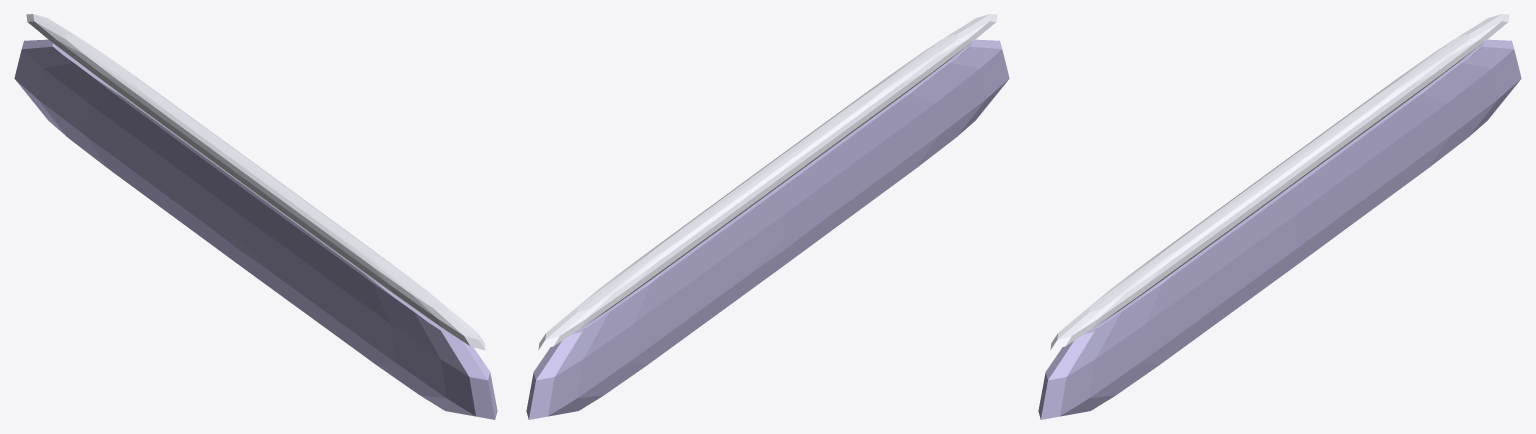
The model's file is h10_snow_walls_e.fbx.
3 renders of one model, left to right at view 1: azimuth 30°, elevation 25°; view 2: azimuth 150°, elevation 25°; view 3: azimuth 330°, elevation 25°, orthographic.
Parts seen in each view (by area): view 1: h10_snow_walls_e__SnowShadow, h10_snow_walls_e__Snow; view 2: h10_snow_walls_e__SnowShadow, h10_snow_walls_e__Snow; view 3: h10_snow_walls_e__SnowShadow, h10_snow_walls_e__Snow.
Boxes of the visible parts, <box> form: h10_snow_walls_e__SnowShadow: <box>14,39,497,419</box>; h10_snow_walls_e__Snow: <box>26,14,485,350</box>; h10_snow_walls_e__SnowShadow: <box>526,39,1009,419</box>; h10_snow_walls_e__Snow: <box>538,14,997,350</box>; h10_snow_walls_e__SnowShadow: <box>1038,39,1521,419</box>; h10_snow_walls_e__Snow: <box>1050,14,1509,350</box>.
Size of the model in its own units: 1.49 by 4 by 37.35.
